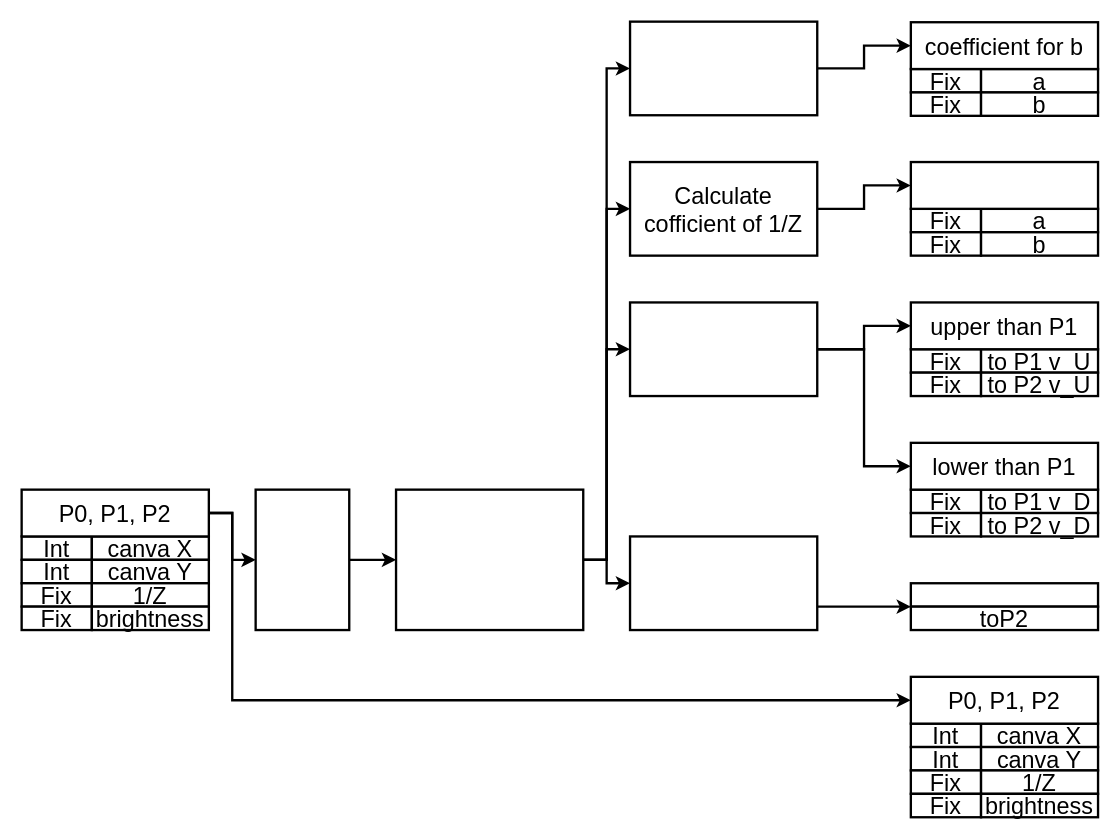
Image size: 1119x839. Some labels were removed from this diagram. The shapes that lost their labels are listed below. From the top down, each one's centre as x and y in pixels, then its label:
the point at 723,68: Calculate cofficient of brightness
the point at 1004,184: coefficient for 1/z
the point at 723,349: Vector generation
the point at 302,559: Sort points by y
the point at 489,559: Calculate determinant
the point at 723,583: determine which to p1 p2
the point at 1004,594: toP1
